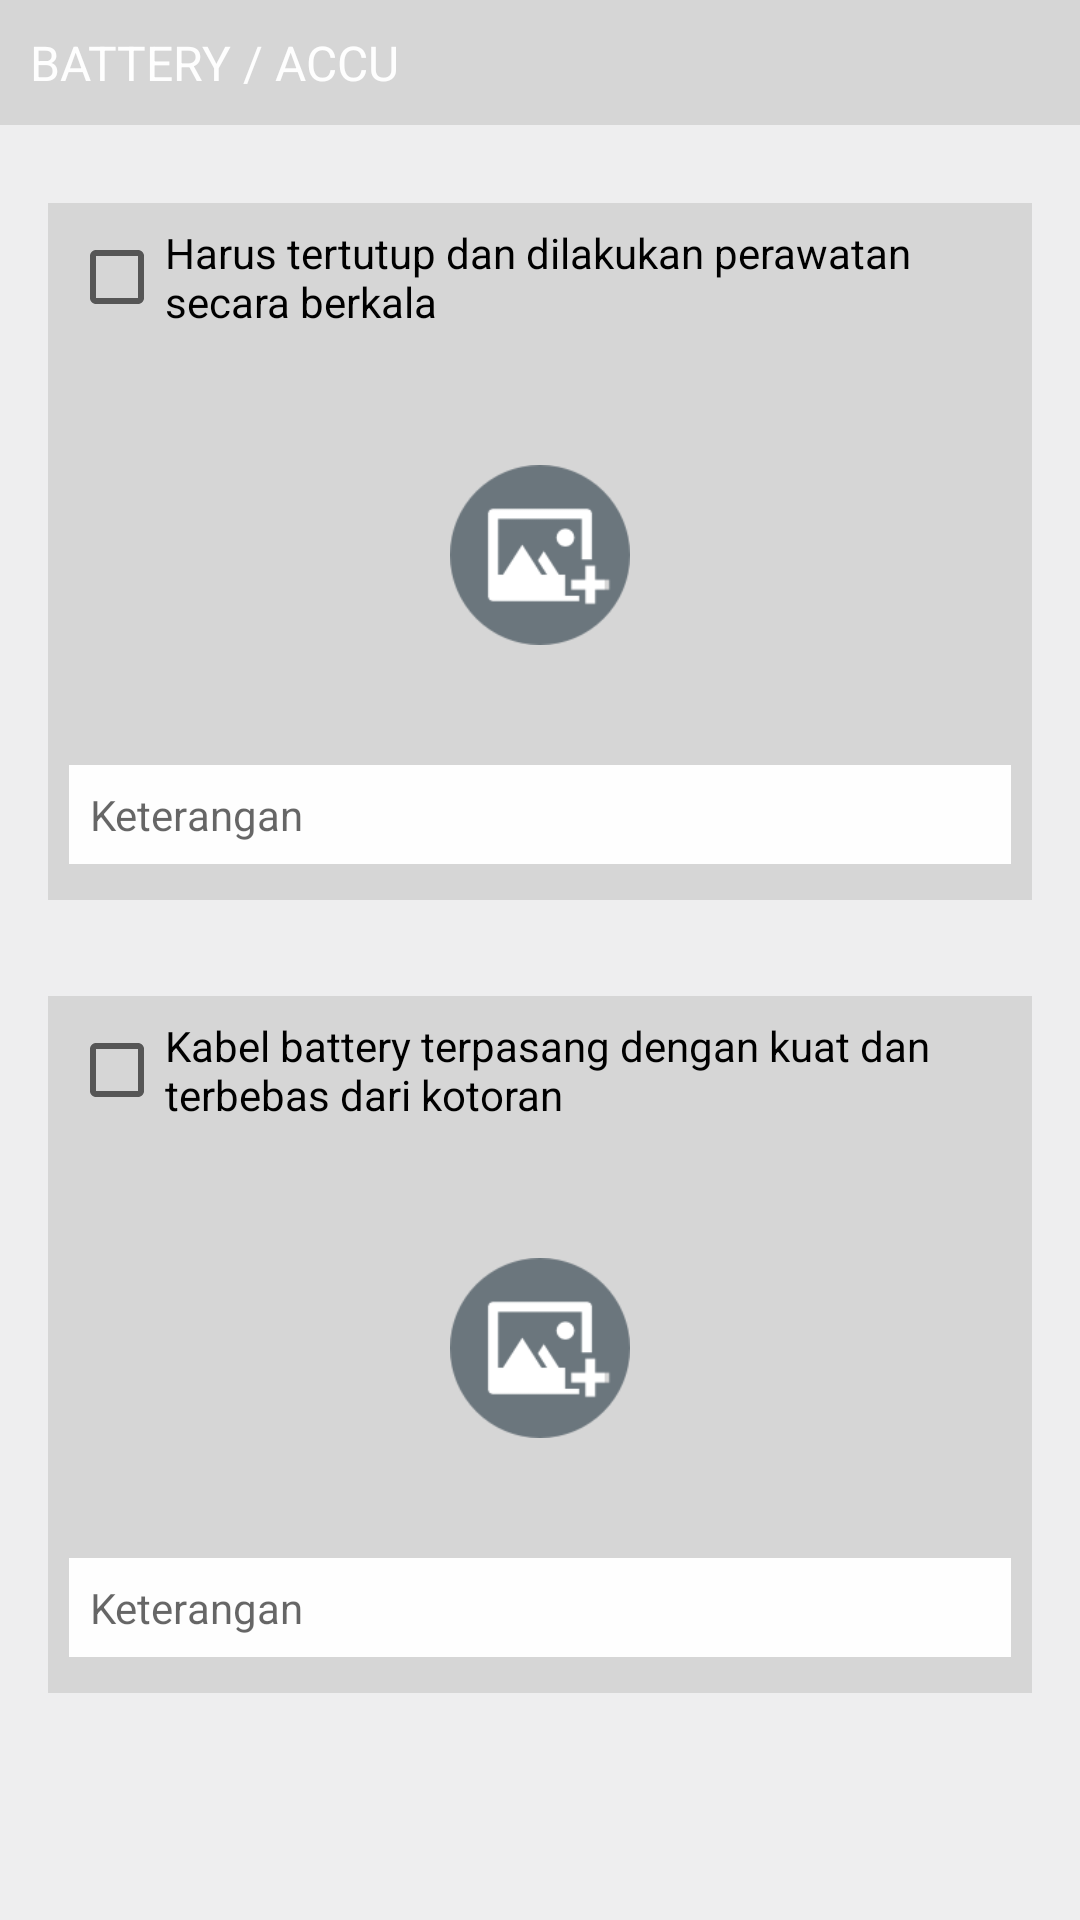

Screen size 1080px x 1920px. Icon name, then its center in pixels as [x,y]:
add: [540,555], [540,1348]
